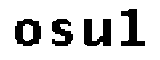1: (117, 7, 149, 51)
o: (12, 17, 42, 49)
s: (49, 17, 76, 48)
u: (82, 15, 115, 50)
